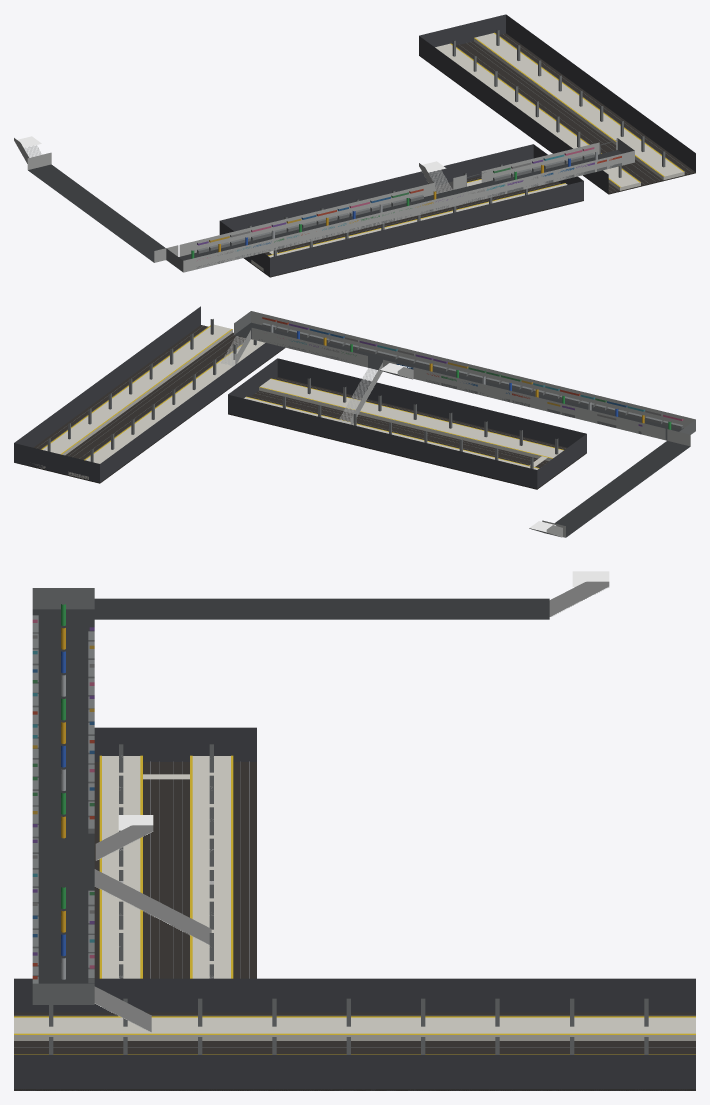
Rendered from hb3_under.glb.
3 renders of one model, top to bottom at view 1: azimuth 30°, elevation 25°; view 2: azimuth 150°, elevation 25°; view 3: azimuth 270°, elevation 25°, orthographic. The views are drawn at different scales.
Parts seen in each view (by area): view 1: hb3_under; view 2: hb3_under; view 3: hb3_under.
Boxes of the visible parts, x1,y1,x2,y2 form: hb3_under: [14, 14, 695, 277]; hb3_under: [14, 306, 695, 537]; hb3_under: [14, 571, 695, 1090].
Bounding box in the file's own units: 174 × 18.4 × 110.
Materials: 3 (3 with a texture image).
